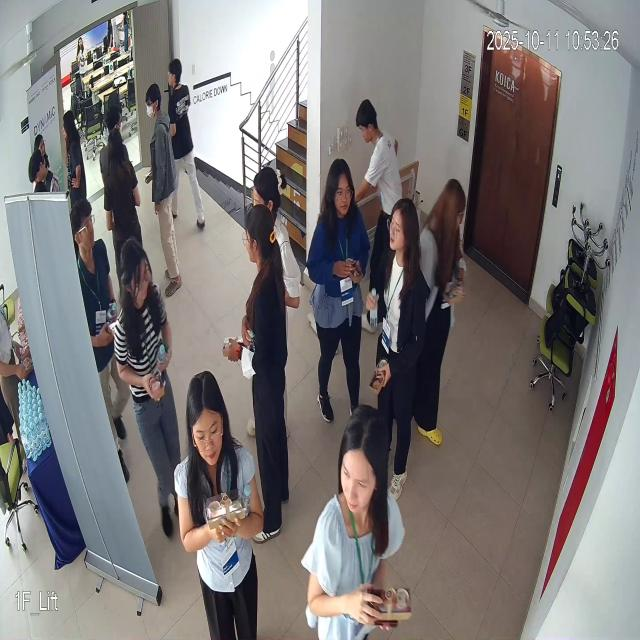face: (382, 193, 423, 268), (118, 238, 156, 308), (326, 154, 357, 227)
